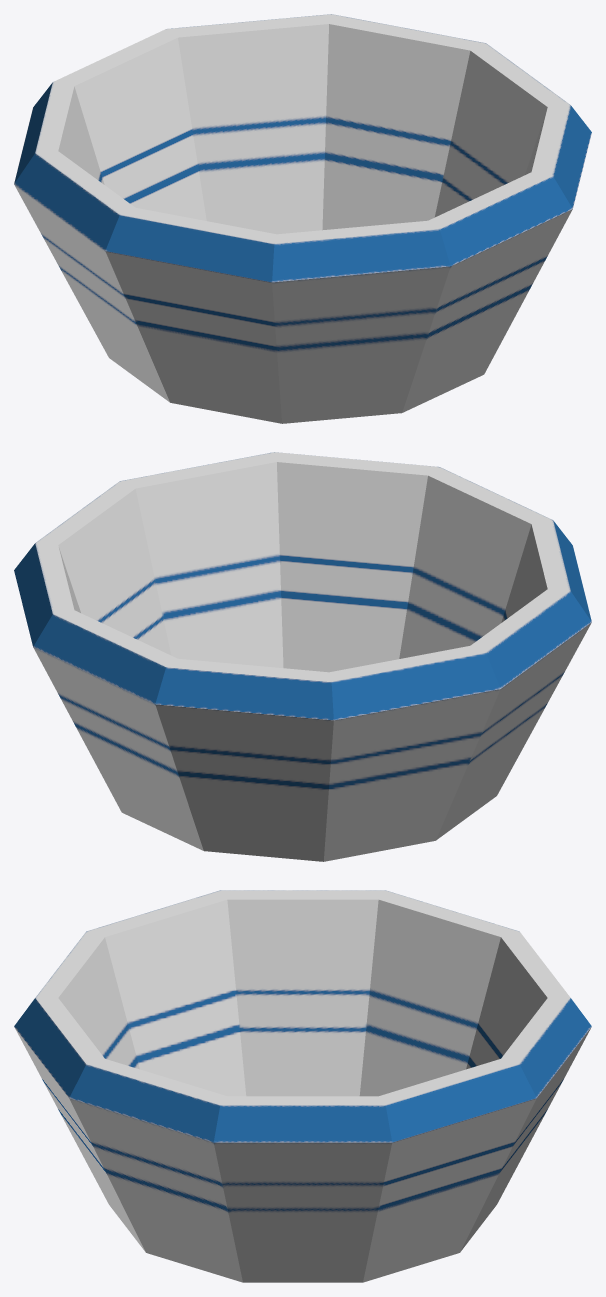
The model's file is Bowl.glb.
The picture shows the model from 3 angles, top to bottom: view 1: azimuth 30°, elevation 25°; view 2: azimuth 150°, elevation 25°; view 3: azimuth 270°, elevation 25°; orthographic projection. The views are drawn at different scales.
Parts seen in each view (by area): view 1: Bowl; view 2: Bowl; view 3: Bowl.
Part boxes in pixels (x1=…): Bowl: x1=14, y1=14, x2=591, y2=423; Bowl: x1=14, y1=452, x2=591, y2=861; Bowl: x1=14, y1=890, x2=591, y2=1282.
Bounding box in the file's own units: 0.2169 × 0.09 × 0.228.
Materials: 1 (1 with a texture image).
